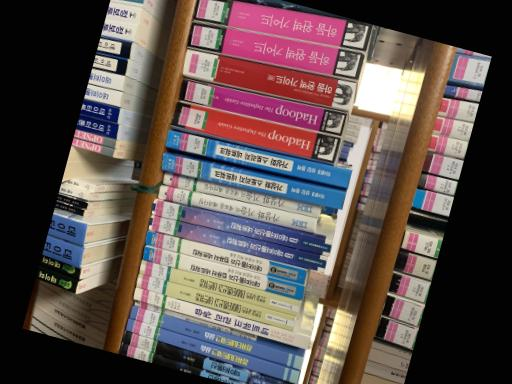book-spine: (124, 318, 299, 383), (132, 286, 310, 349), (163, 129, 350, 188), (128, 306, 303, 369), (169, 101, 339, 163), (186, 21, 364, 80), (147, 215, 326, 273), (181, 49, 354, 109), (160, 153, 344, 209), (149, 200, 332, 256), (177, 78, 347, 136), (191, 0, 372, 53), (135, 273, 295, 331), (120, 330, 289, 384), (138, 260, 300, 316), (142, 245, 303, 300), (144, 231, 305, 284), (156, 184, 315, 232), (161, 171, 319, 218), (117, 342, 249, 384), (133, 299, 254, 340)
